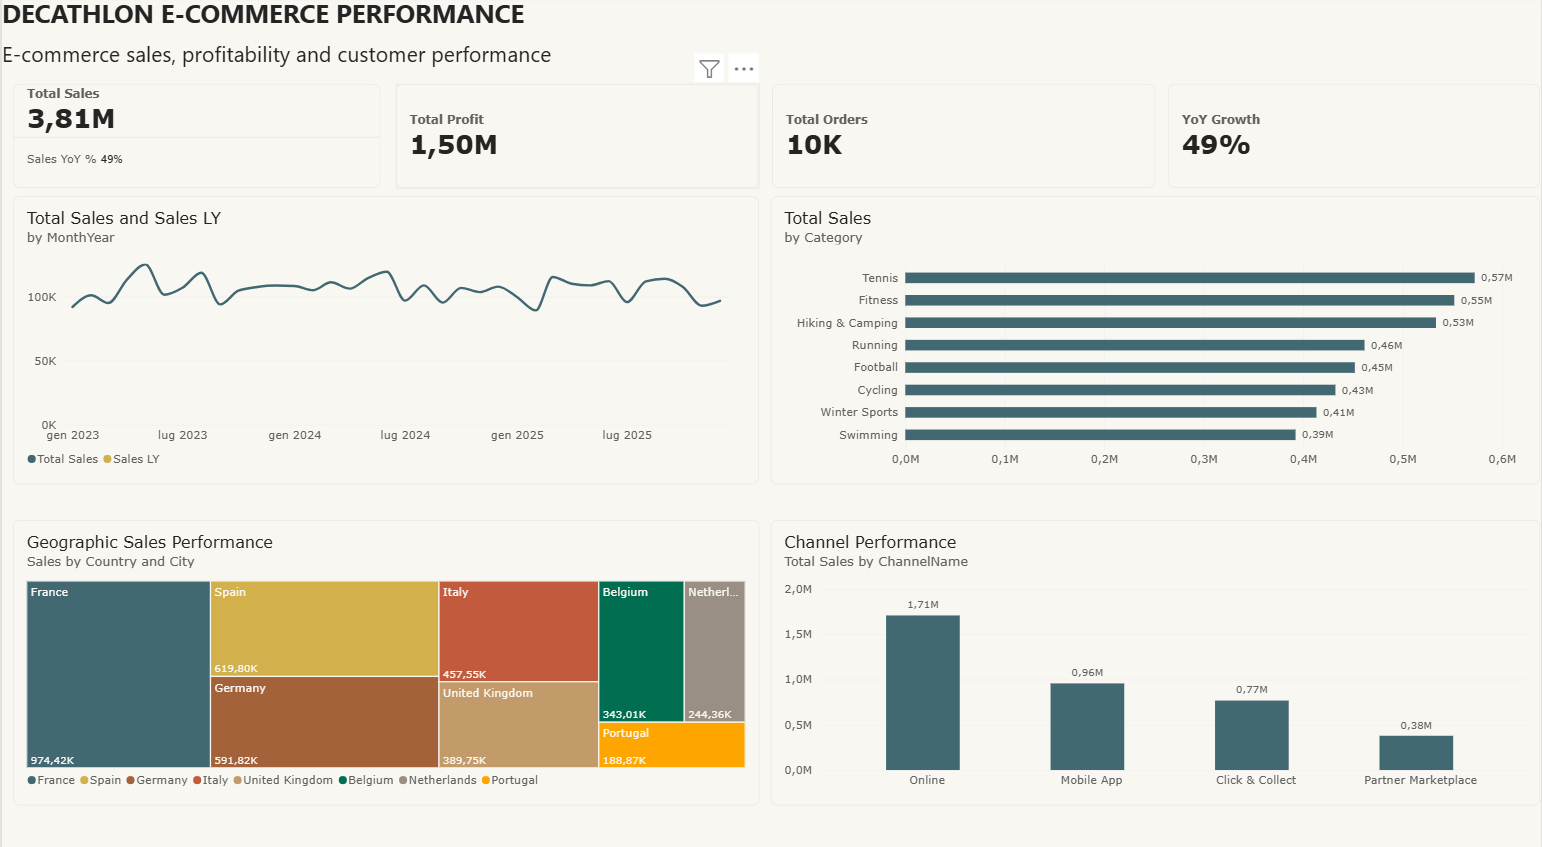

Layout of this report page (visuals, bound fields, positions):
{"tool":"powerbi","page":{"name":"Page 1","canvas":[1920,1080],"ordinal":0},"visuals":[{"type":"cardVisual","fields":{"Data":["tbl_Sales.Total Net Sales"]},"box":[14.3,111.4,458.6,130],"z":0},{"type":"cardVisual","fields":{"Data":["Sum(tbl_Sales.Profit)"]},"box":[491.4,111.4,452.9,130],"z":1000},{"type":"cardVisual","fields":{"Data":["tbl_Sales.YoY Growth %"]},"box":[1454.3,111.4,465.7,130],"z":2000},{"type":"cardVisual","fields":{"Data":["tbl_Sales.Total Orders"]},"box":[960,111.4,478.6,130],"z":3000},{"type":"lineChart","fields":{"Category":["Date.MonthYear"],"Y":["tbl_Sales.Total Sales","tbl_Sales.Sales LY"]},"box":[14,251.2,929.7,359.3],"z":4000},{"type":"clusteredBarChart","fields":{"Category":["tbl_Product.Category"],"Y":["tbl_Sales.Total Sales"]},"box":[959.3,251.2,961,359.3],"z":5000},{"type":"textbox","box":[0,0,1920.4,111.6],"z":7000},{"type":"columnChart","title":"Channel Performance","fields":{"Category":["Channel.ChannelName"],"Y":["tbl_Sales.Total Sales"]},"box":[959,654,961,356],"z":8000},{"type":"treemap","title":"Geographic Sales Performance","fields":{"Group":["Customer.Country"],"Values":["tbl_Sales.Total Sales"]},"box":[14,654,930,356],"z":8001}]}

Visuals, with their boxes in screenshot pixels (x1, y1, x2, y2), scaled from the page's 1920x1080 canvas onto the 1542x847 screenshot:
cardVisual - tbl_Sales.Total Net Sales: box=[11, 87, 380, 189]
cardVisual - Sum(tbl_Sales.Profit): box=[395, 87, 758, 189]
cardVisual - tbl_Sales.YoY Growth %: box=[1168, 87, 1541, 189]
cardVisual - tbl_Sales.Total Orders: box=[771, 87, 1155, 189]
lineChart - Date.MonthYear x tbl_Sales.Total Sales: box=[11, 197, 758, 479]
clusteredBarChart - tbl_Product.Category x tbl_Sales.Total Sales: box=[770, 197, 1541, 479]
textbox: box=[0, 0, 1541, 88]
"Channel Performance" columnChart: box=[770, 513, 1541, 792]
"Geographic Sales Performance" treemap: box=[11, 513, 758, 792]
